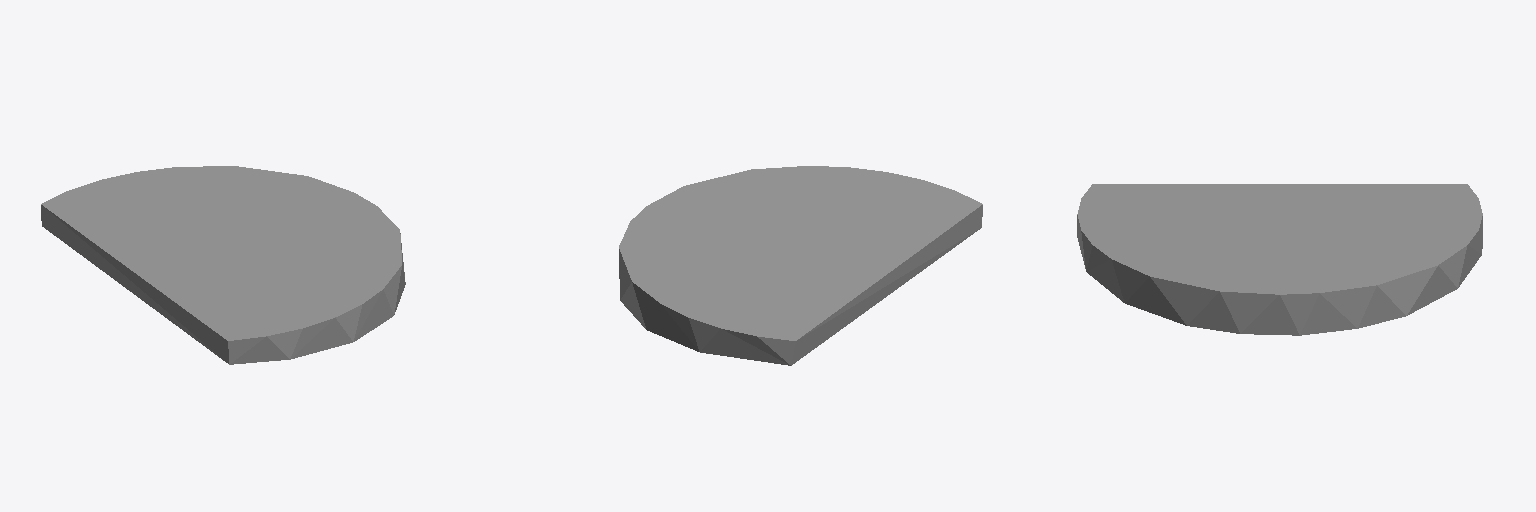
Rendered from stage_base_sunahama_par_01.obj.
The picture shows the model from 3 angles: view 1: azimuth 30°, elevation 25°; view 2: azimuth 150°, elevation 25°; view 3: azimuth 270°, elevation 25°; orthographic projection.
Parts seen in each view (by area): view 1: Sphere.001; view 2: Sphere.001; view 3: Sphere.001.
Boxes of the visible parts, box(x1,y1,x2,y2) form: Sphere.001: box(41, 166, 405, 364); Sphere.001: box(619, 166, 982, 365); Sphere.001: box(1077, 184, 1482, 335).
Size of the model in its own units: 5.59 by 0.8961 by 8.08.